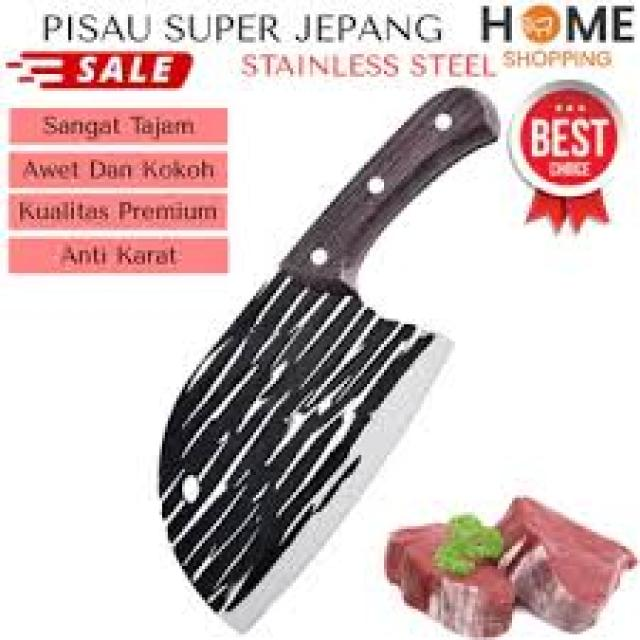Knife: (156, 85, 498, 629)
